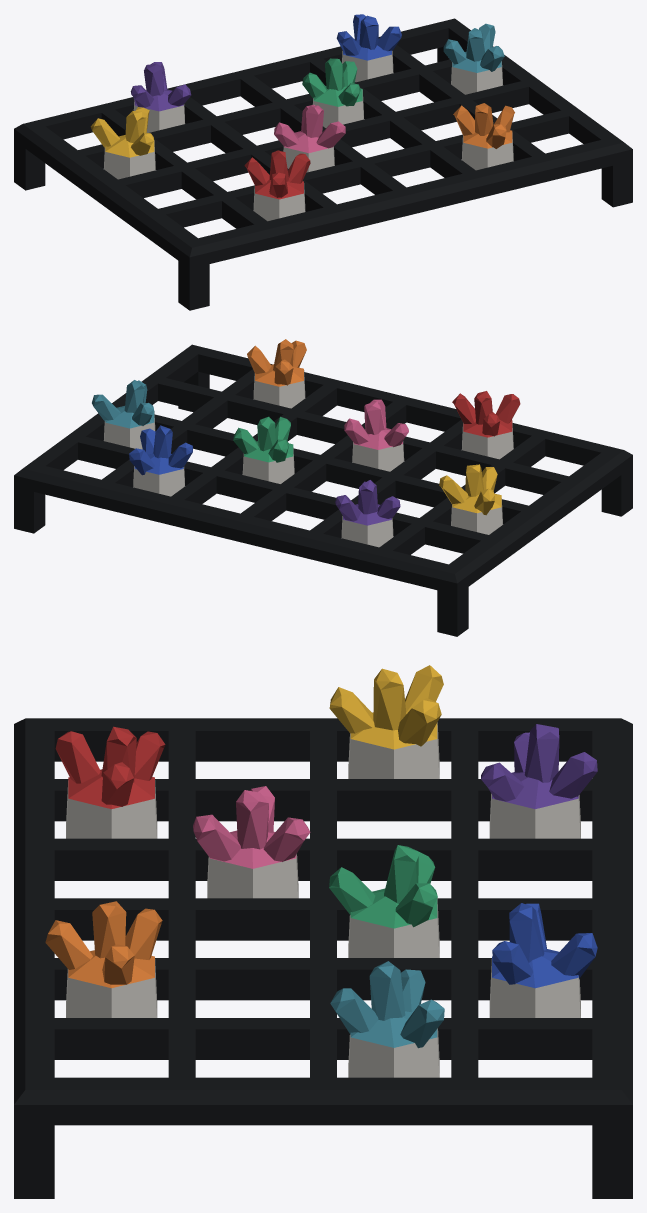
The model's file is coral-frag-rack-a0e7f9.glb.
The picture shows the model from 3 angles, top to bottom: view 1: azimuth 30°, elevation 25°; view 2: azimuth 150°, elevation 25°; view 3: azimuth 270°, elevation 25°; orthographic projection. The views are drawn at different scales.
Visible parts, largest first — view 1: frag-rack-body; view 2: frag-rack-body; view 3: frag-rack-body.
Boxes of the visible parts, box(x1,y1,x2,y2) form: frag-rack-body: box(14, 14, 632, 310); frag-rack-body: box(14, 339, 632, 636); frag-rack-body: box(14, 665, 632, 1198).
Size of the model in its own units: 0.1998 by 0.0471 by 0.1372.
